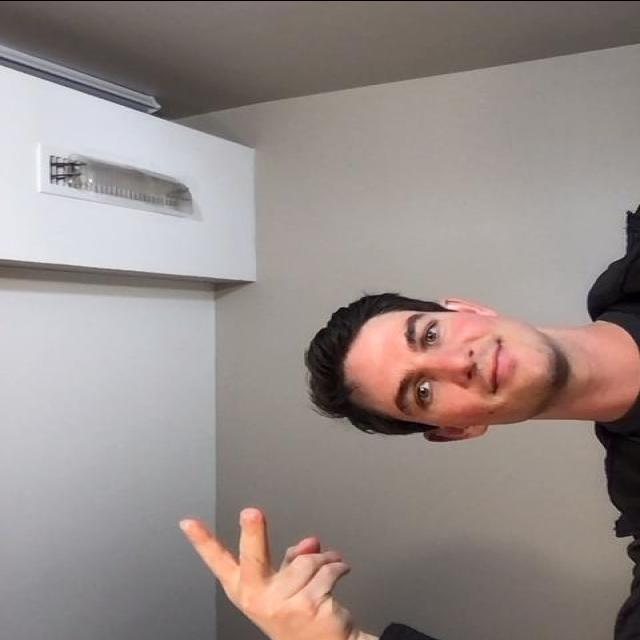Scissors: (168, 499, 362, 640)
